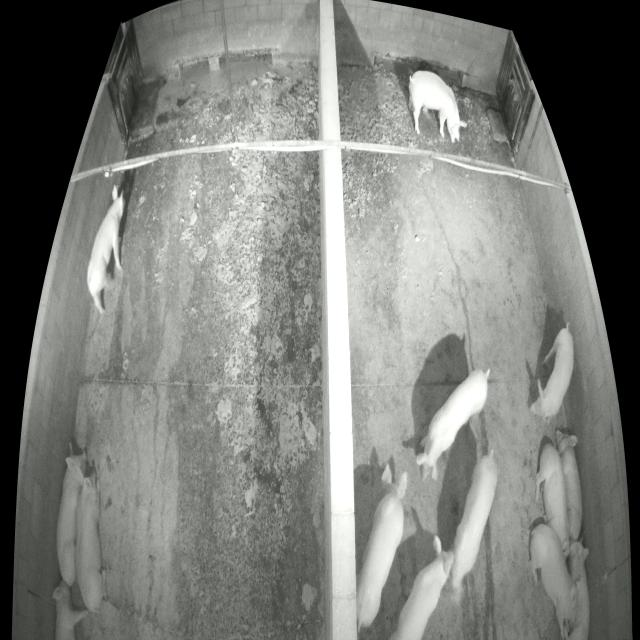pig: (356, 463, 407, 628), (417, 368, 487, 483), (449, 453, 497, 605), (389, 534, 452, 637), (528, 525, 582, 637), (87, 183, 126, 313), (74, 471, 106, 612), (56, 449, 88, 588), (535, 441, 573, 558), (529, 328, 574, 426), (408, 71, 467, 143), (556, 426, 584, 543), (566, 539, 590, 639), (52, 580, 88, 638)
